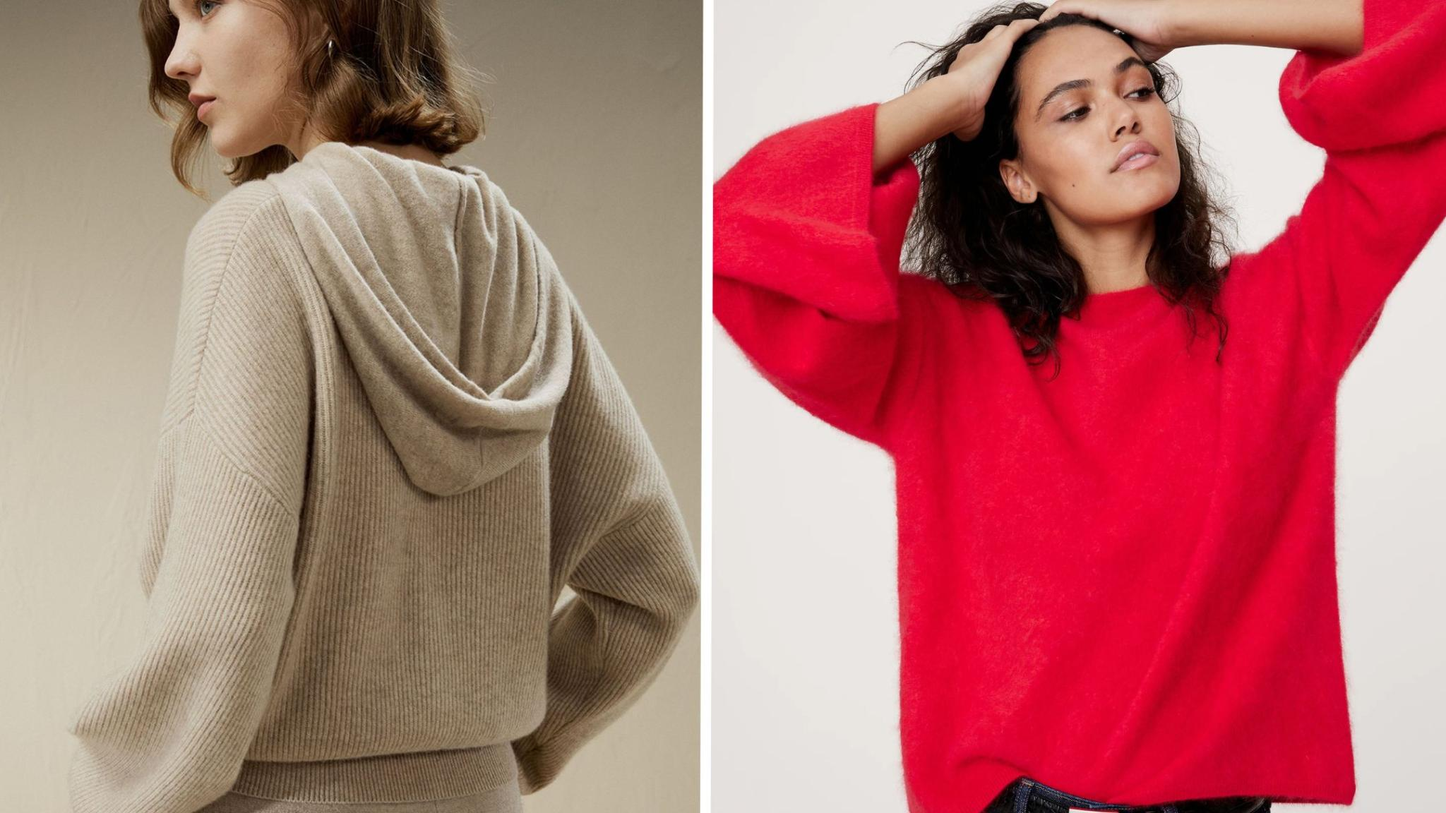sweater: (709, 0, 1446, 813), (57, 143, 702, 808)
